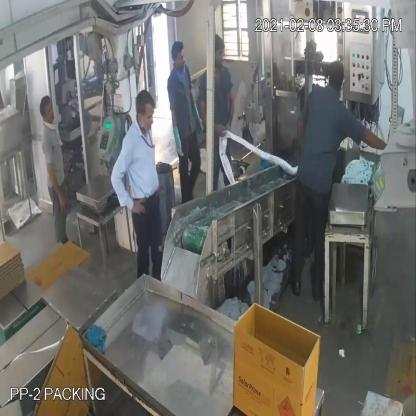glove: (158, 95, 186, 170), (186, 92, 208, 140)
no_glove: (109, 149, 147, 225), (37, 151, 68, 222), (199, 92, 225, 144), (361, 118, 392, 159), (226, 81, 236, 137)
